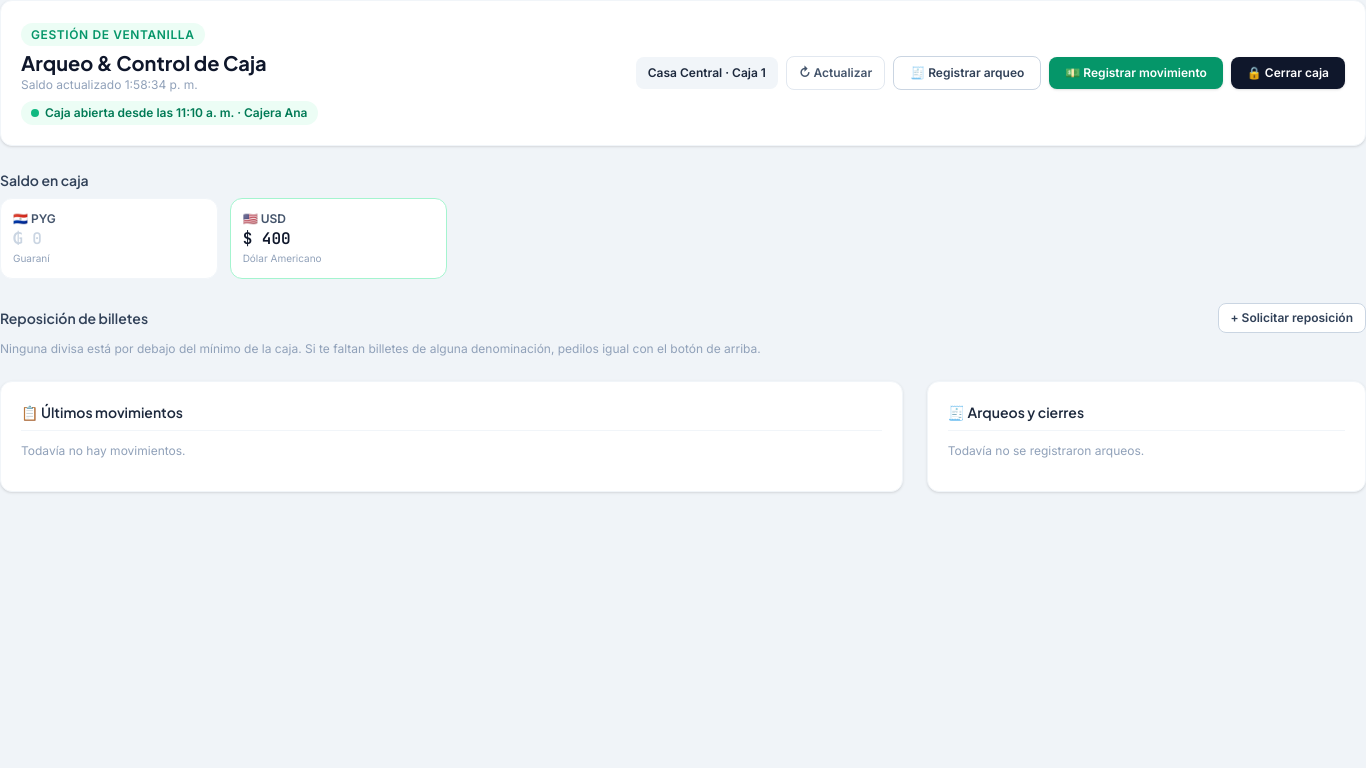
Test: CashCountView · saldo por divisa (PI-44 / PI-78) › valida los decimales de la moneda
The width and height of the screenshot is (1366, 768).
Expected: the text "$ 400" is shown, x1=243 y1=228 x2=291 y2=249
Click the button "💵 Registrar movimiento": point(1136, 73) x1=1049 y1=57 x2=1223 y2=89
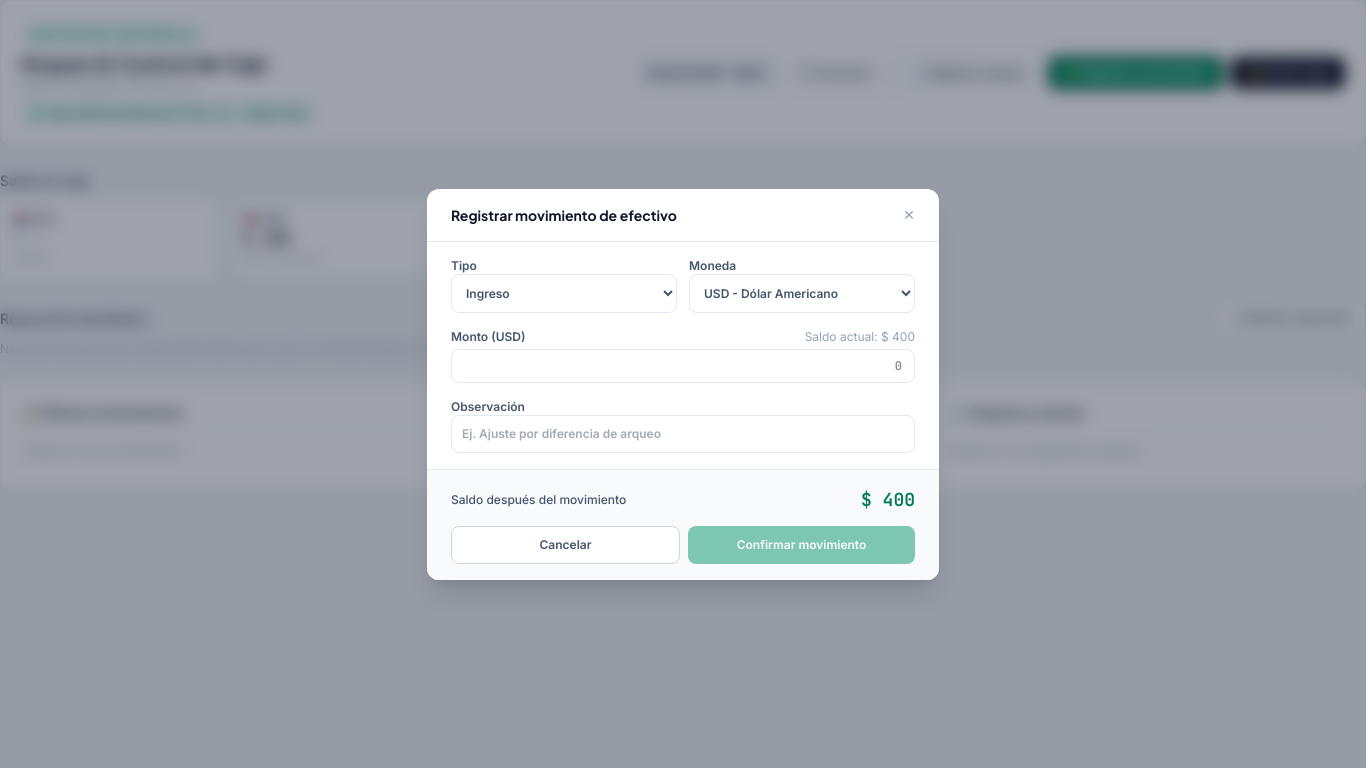
Select "PYG - Guaraní" in the dropdown labelled "Moneda": point(802, 293) x1=689 y1=274 x2=915 y2=312
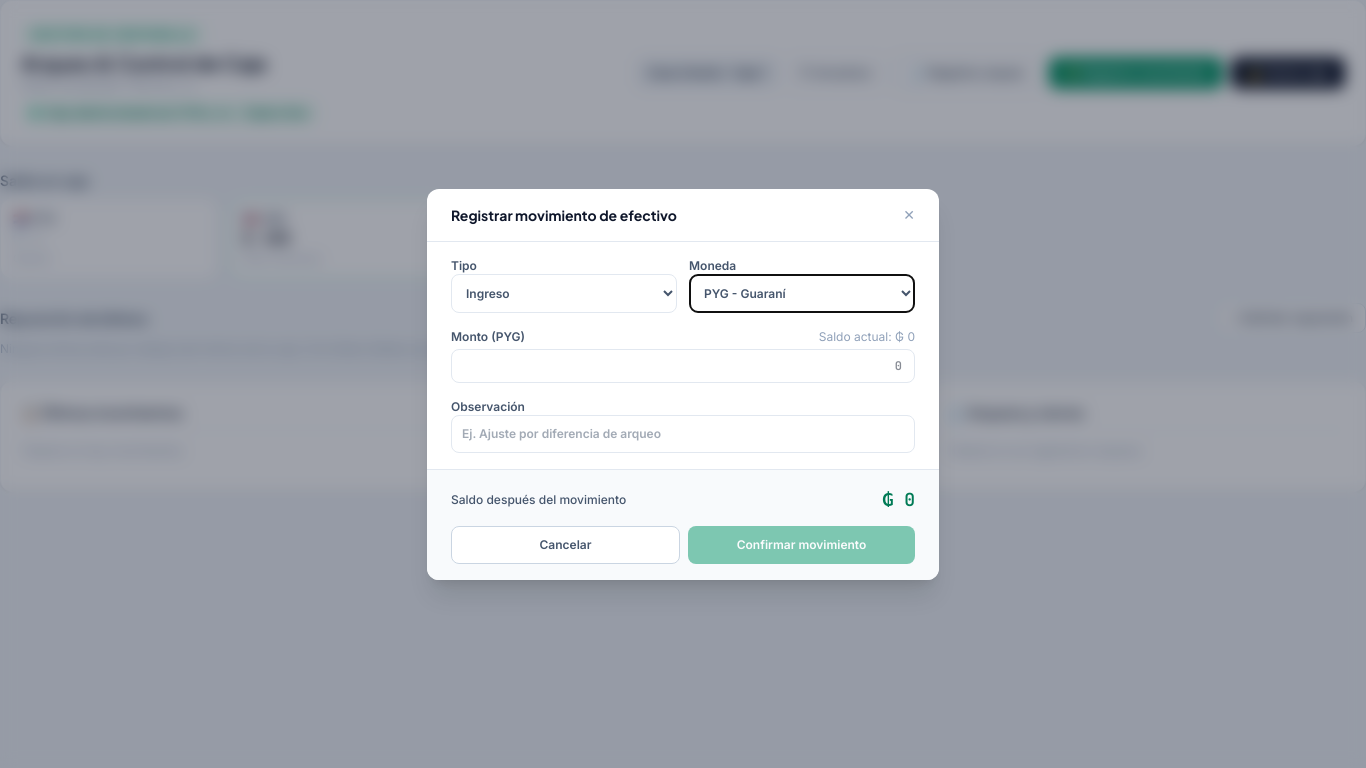
In the number field labelled "Monto (PYG)": point(683, 366) x1=451 y1=348 x2=915 y2=382, type "1000.5"
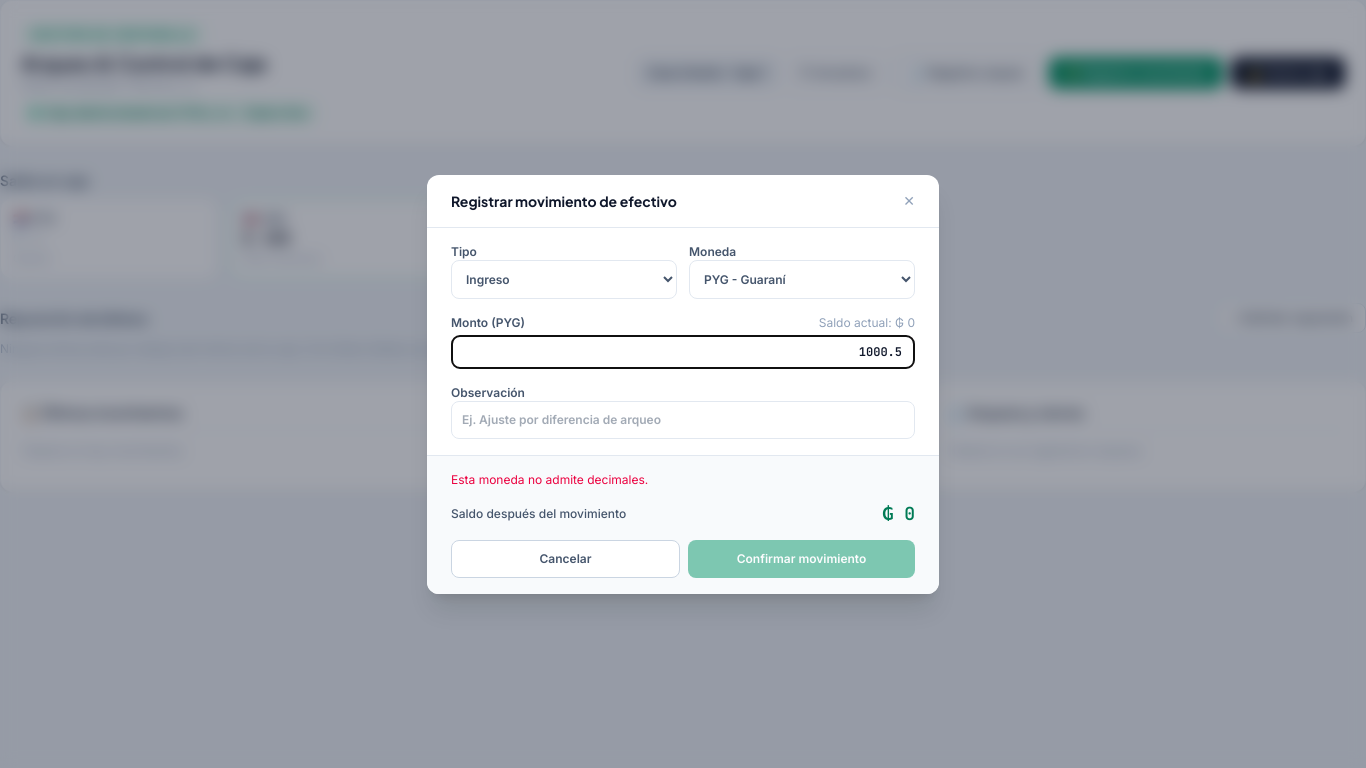
Expected: the button "Confirmar movimiento" is disabled, x1=688 y1=540 x2=915 y2=578
Expected: the text "Esta moneda no admite decimales." is shown, x1=451 y1=472 x2=648 y2=486
